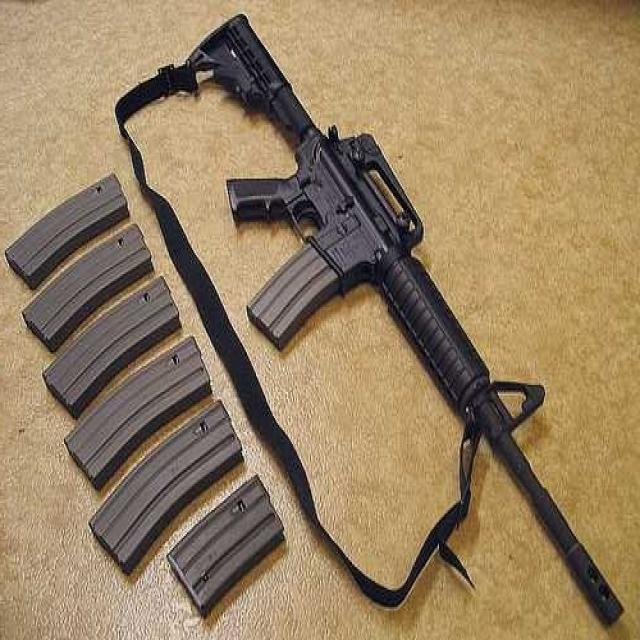heavyweapon: (128, 1, 640, 640)
